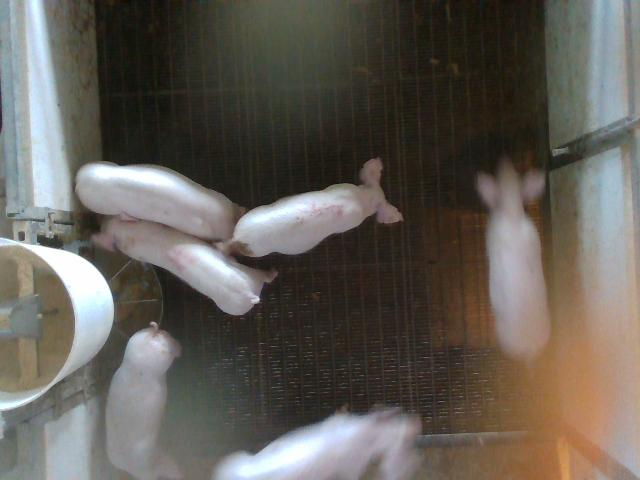pig-4: (92, 216, 276, 314)
pig-5: (221, 159, 402, 257)
